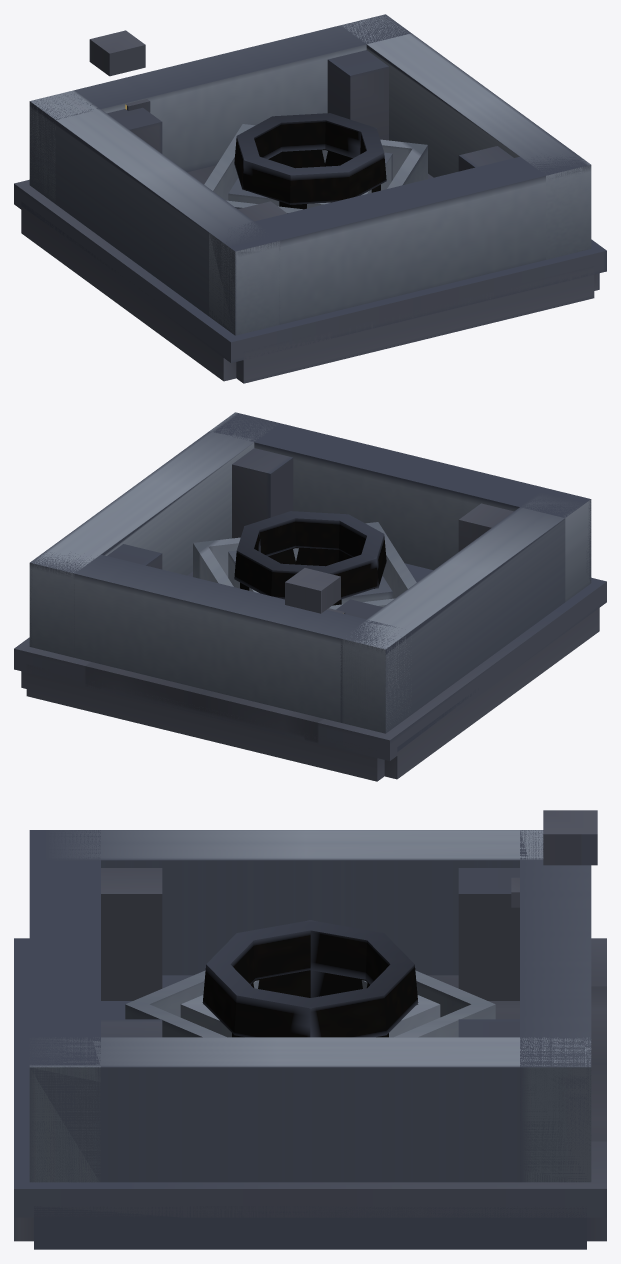
The model's file is massline_core_lod2.glb.
The picture shows the model from 3 angles, top to bottom: view 1: azimuth 30°, elevation 25°; view 2: azimuth 150°, elevation 25°; view 3: azimuth 270°, elevation 25°; orthographic projection. The views are drawn at different scales.
Parts seen in each view (by area): view 1: LOD2_massline_core, LOD2_massline_core_lamp; view 2: LOD2_massline_core, LOD2_massline_core_lamp; view 3: LOD2_massline_core, LOD2_massline_core_lamp.
Boxes of the visible parts, x1,y1,x2,y2 form: LOD2_massline_core: [14, 14, 606, 383]; LOD2_massline_core_lamp: [89, 30, 150, 112]; LOD2_massline_core: [14, 412, 606, 781]; LOD2_massline_core_lamp: [285, 568, 345, 613]; LOD2_massline_core: [14, 830, 606, 1249]; LOD2_massline_core_lamp: [511, 810, 597, 907].
Size of the model in its own units: 2.08 by 0.918 by 2.08.
Materials: 1 (1 with a texture image).
